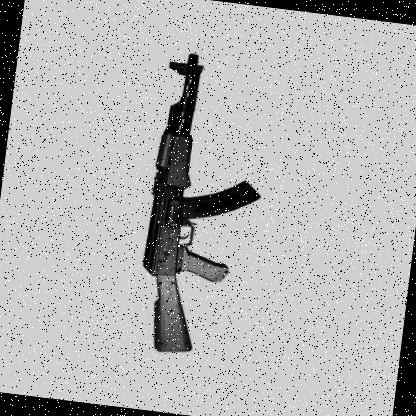rifle: (110, 40, 285, 365)
